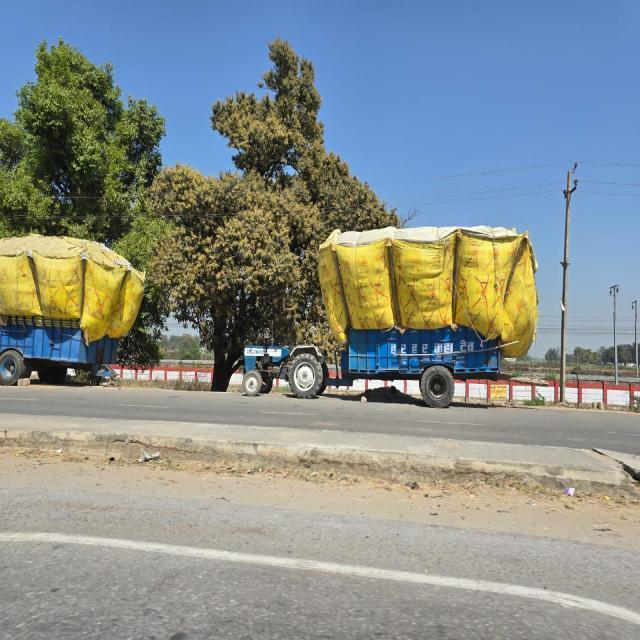uncovered: (317, 230, 524, 414), (0, 224, 129, 378)
